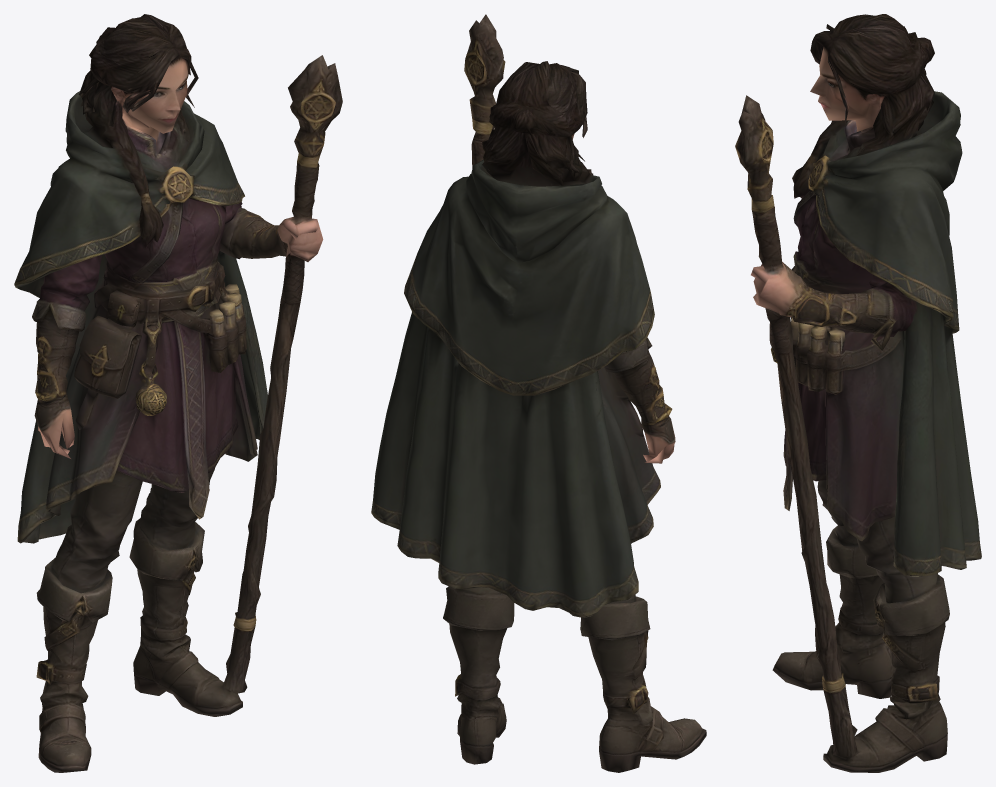
The model's file is beastmaster.glb.
3 renders of one model, left to right at view 1: azimuth 30°, elevation 25°; view 2: azimuth 150°, elevation 25°; view 3: azimuth 270°, elevation 25°, orthographic. The views are drawn at different scales.
Parts seen in each view (by area): view 1: tripo_node_9dd05ca5-c77f-49a9-ac63-6ed7b9451c28; view 2: tripo_node_9dd05ca5-c77f-49a9-ac63-6ed7b9451c28; view 3: tripo_node_9dd05ca5-c77f-49a9-ac63-6ed7b9451c28.
Part boxes in pixels (x1,y1,x2,y2): tripo_node_9dd05ca5-c77f-49a9-ac63-6ed7b9451c28: (14,14,342,772); tripo_node_9dd05ca5-c77f-49a9-ac63-6ed7b9451c28: (371,14,706,772); tripo_node_9dd05ca5-c77f-49a9-ac63-6ed7b9451c28: (735,14,981,772).
Bounding box in the file's own units: 0.4032 × 0.978 × 0.3051.
1 material, 1 textured.
